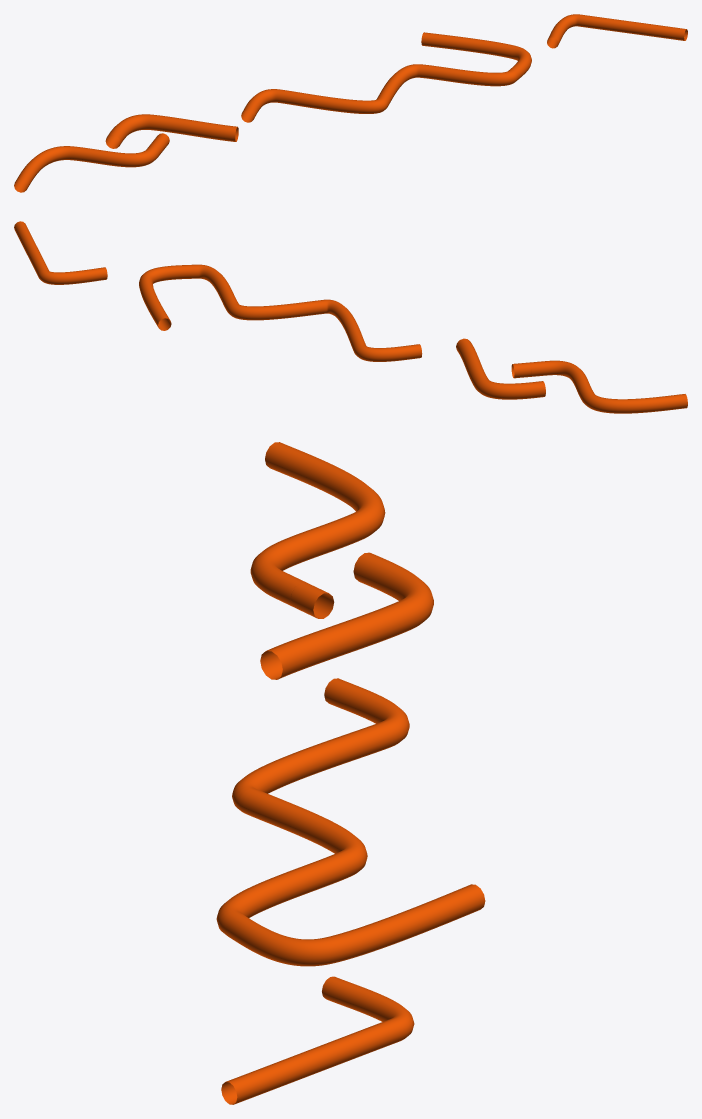
The model's file is aksara_loppo.fbx.
3 views of the same model, one above another, from view 1: azimuth 30°, elevation 25°; view 2: azimuth 150°, elevation 25°; view 3: azimuth 270°, elevation 25° (orthographic). The views are drawn at different scales.
Visible parts, largest first — view 1: BézierCurve.003; view 2: BézierCurve.003; view 3: BézierCurve.003.
Part boxes in pixels (box(x1,y1,x2,y2)): BézierCurve.003: box(14, 14, 687, 192); BézierCurve.003: box(14, 221, 687, 413); BézierCurve.003: box(216, 442, 485, 1104).
Size of the model in its own units: 12320 by 251 by 2165.
